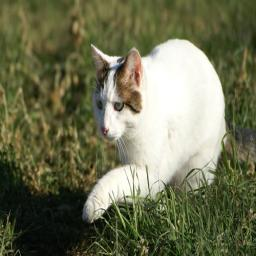catnose: (100, 126, 110, 136)
